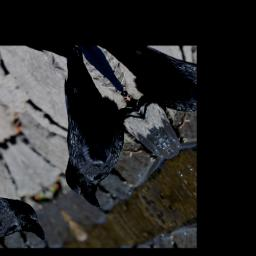Crow: (0, 47, 180, 216)
